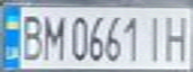0: (66, 11, 90, 62)
1: (121, 11, 145, 63)
6: (103, 11, 127, 63), (87, 11, 109, 63)
B: (15, 10, 45, 62)
H: (160, 10, 193, 63)
I: (142, 11, 169, 63)
M: (39, 10, 66, 62)
